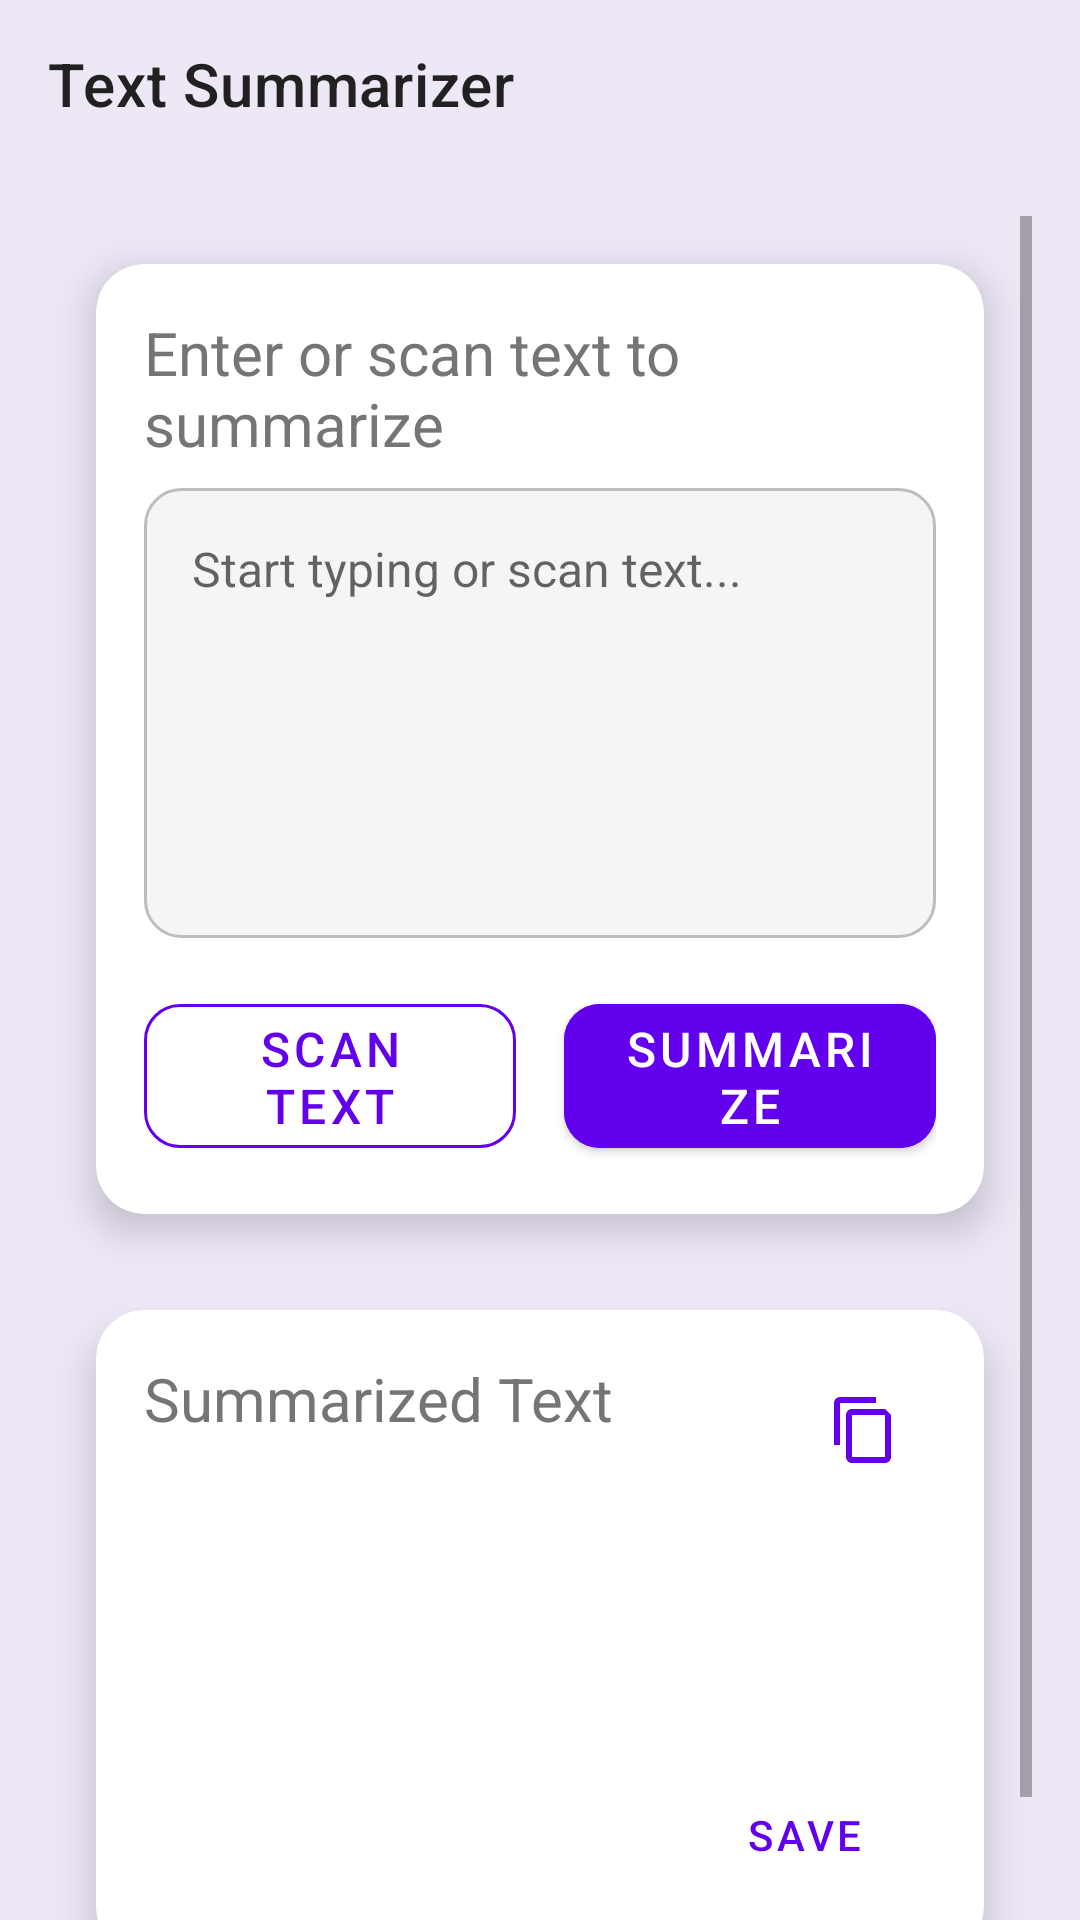

Screen size 1080*1920. Icon name, then its center in pixels as [x,y]:
Copy Text: [862,1430]
